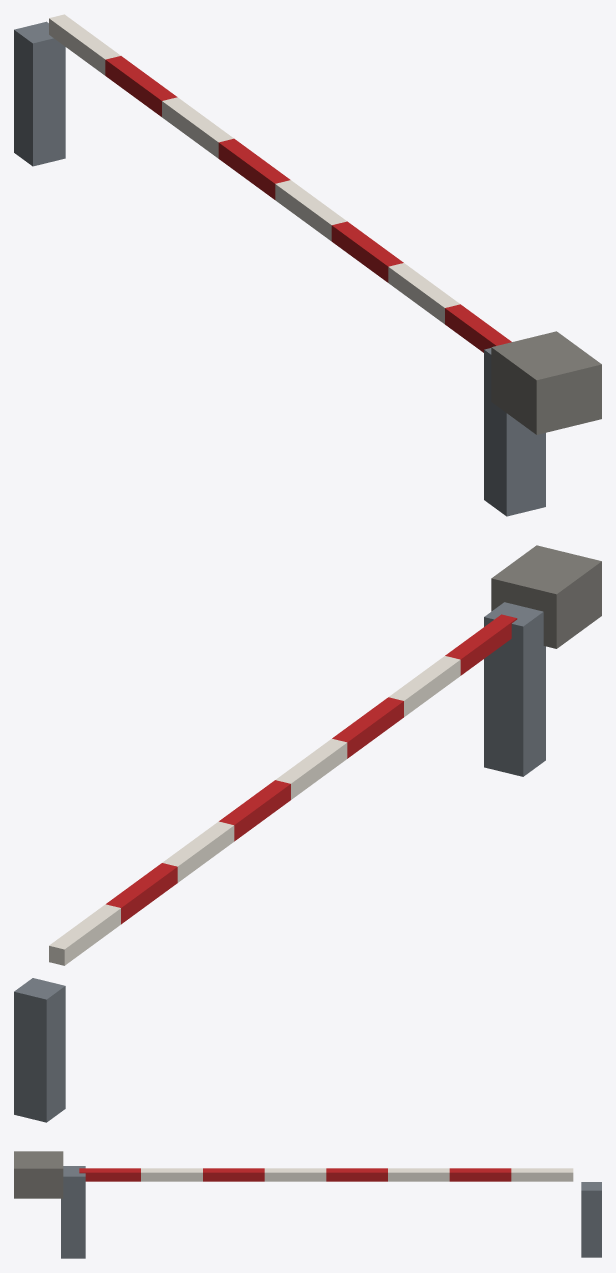
The model's file is bom.glb.
3 views of the same model, one above another, from view 1: azimuth 30°, elevation 25°; view 2: azimuth 150°, elevation 25°; view 3: azimuth 270°, elevation 25° (orthographic). The views are drawn at different scales.
Parts seen in each view (by area): view 1: bom; view 2: bom; view 3: bom.
Part boxes in pixels (bbox=[...]): bom: bbox=[14, 14, 601, 516]; bom: bbox=[14, 545, 601, 1122]; bom: bbox=[14, 1151, 601, 1258].
Bounding box in the file's own units: 0.5 × 1.25 × 7.15.
